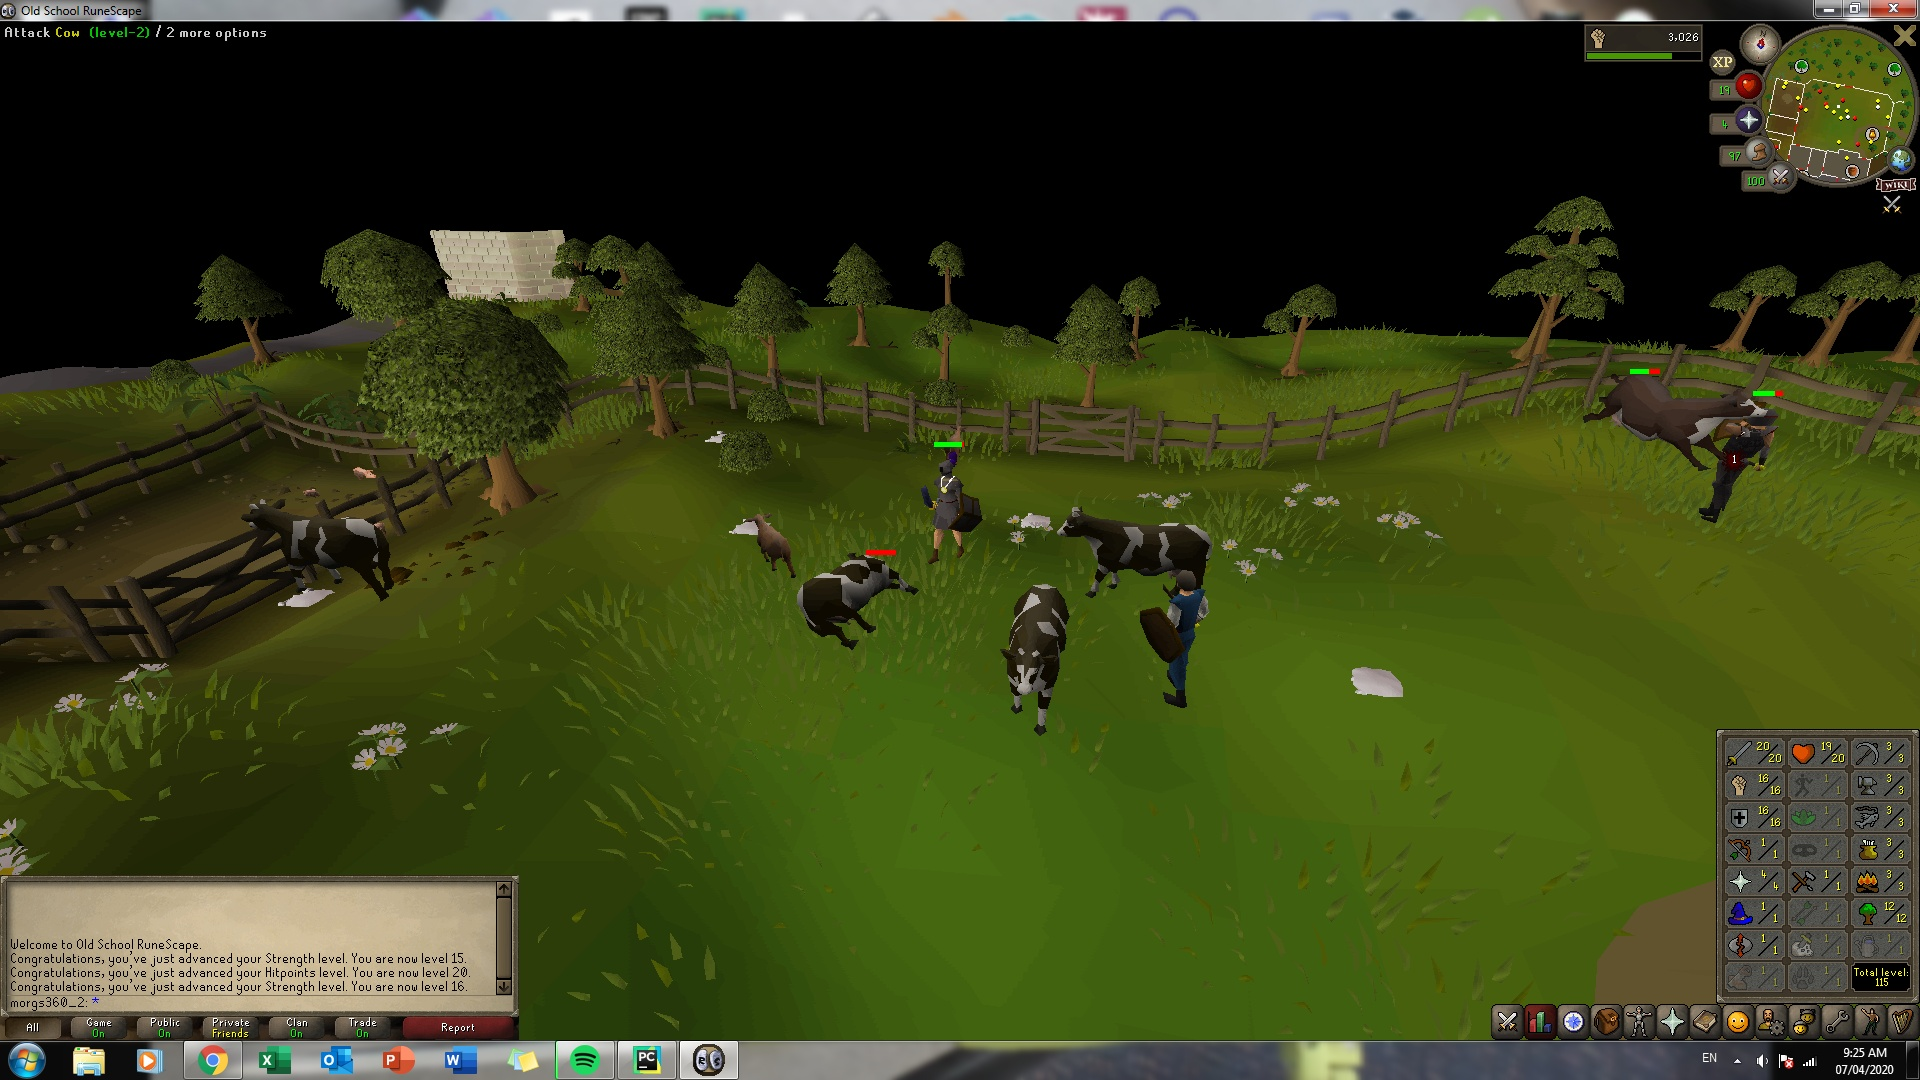cow: (1581, 368, 1764, 473), (237, 496, 398, 599), (798, 551, 926, 653), (992, 582, 1073, 738), (1056, 501, 1213, 580)
